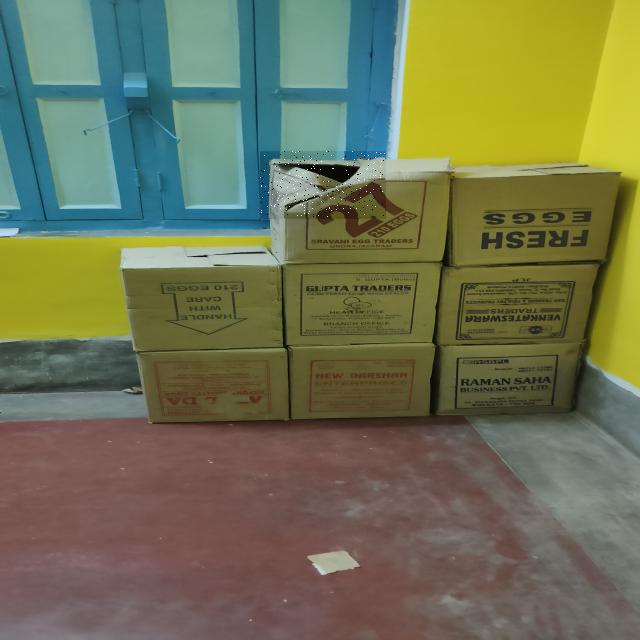squeeze: (261, 151, 385, 217)
